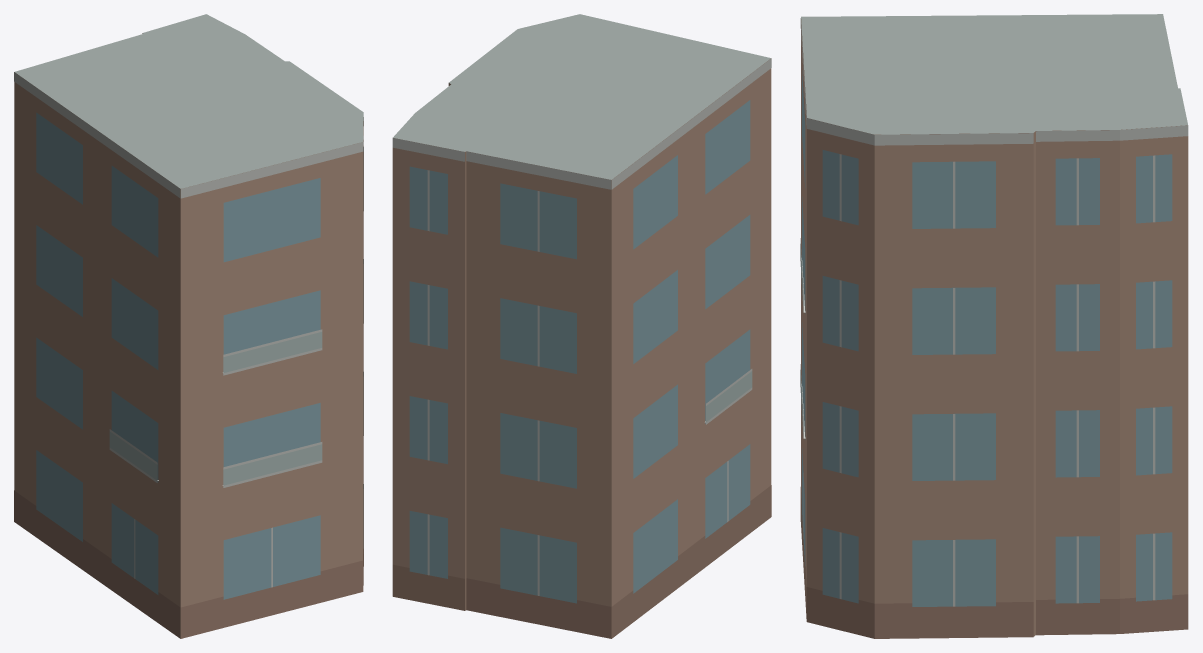
File: survey-upis-32720147.glb
3 renders of one model, left to right at view 1: azimuth 30°, elevation 25°; view 2: azimuth 150°, elevation 25°; view 3: azimuth 270°, elevation 25°, orthographic. The views are drawn at different scales.
Parts seen in each view (by area): view 1: survey-upis-32720147.tmp; view 2: survey-upis-32720147.tmp; view 3: survey-upis-32720147.tmp.
Boxes of the visible parts, <box> form: survey-upis-32720147.tmp: <box>14,14,363,638</box>; survey-upis-32720147.tmp: <box>392,14,771,638</box>; survey-upis-32720147.tmp: <box>800,14,1188,638</box>.
Bounding box in the file's own units: 5.81 × 11.3 × 7.89.
